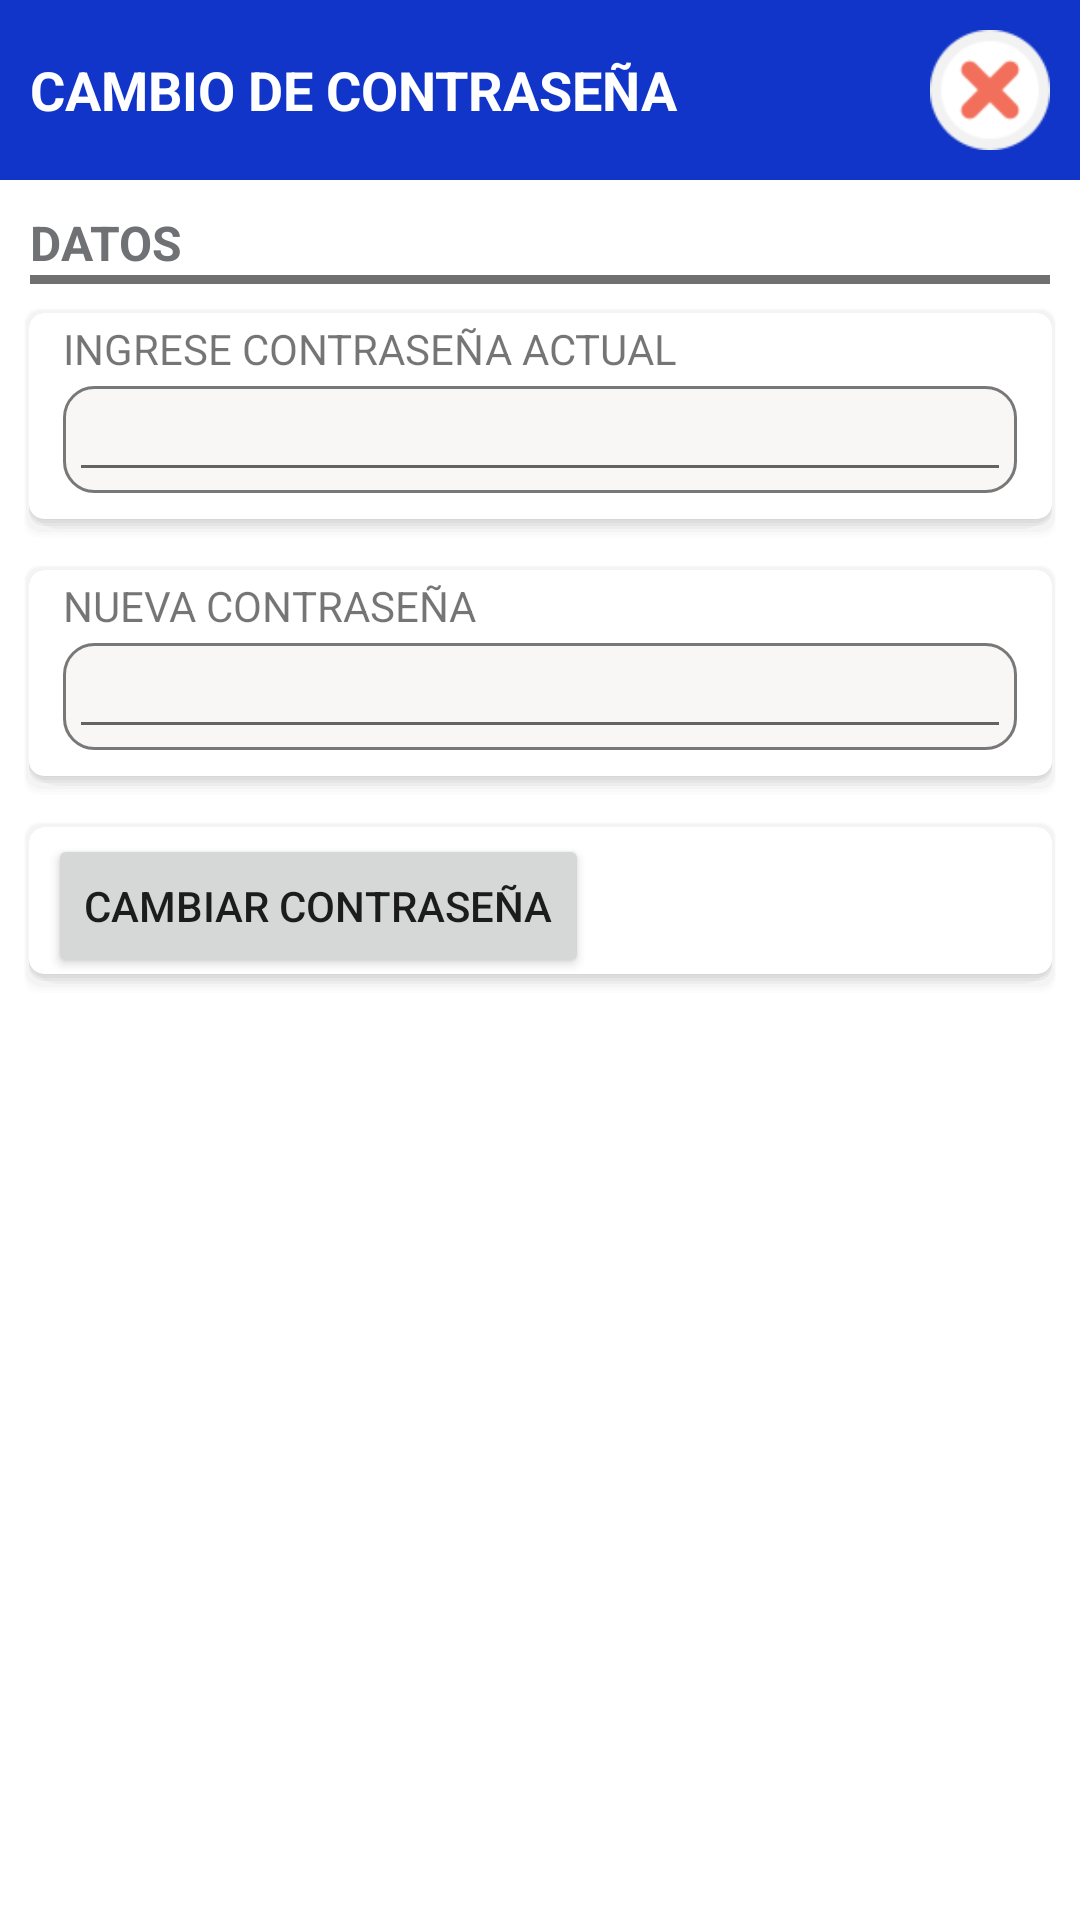

Icons on this 1080*1920 Android screen, each with the point to tap as point (x, y):
cancel: point (990, 90)
